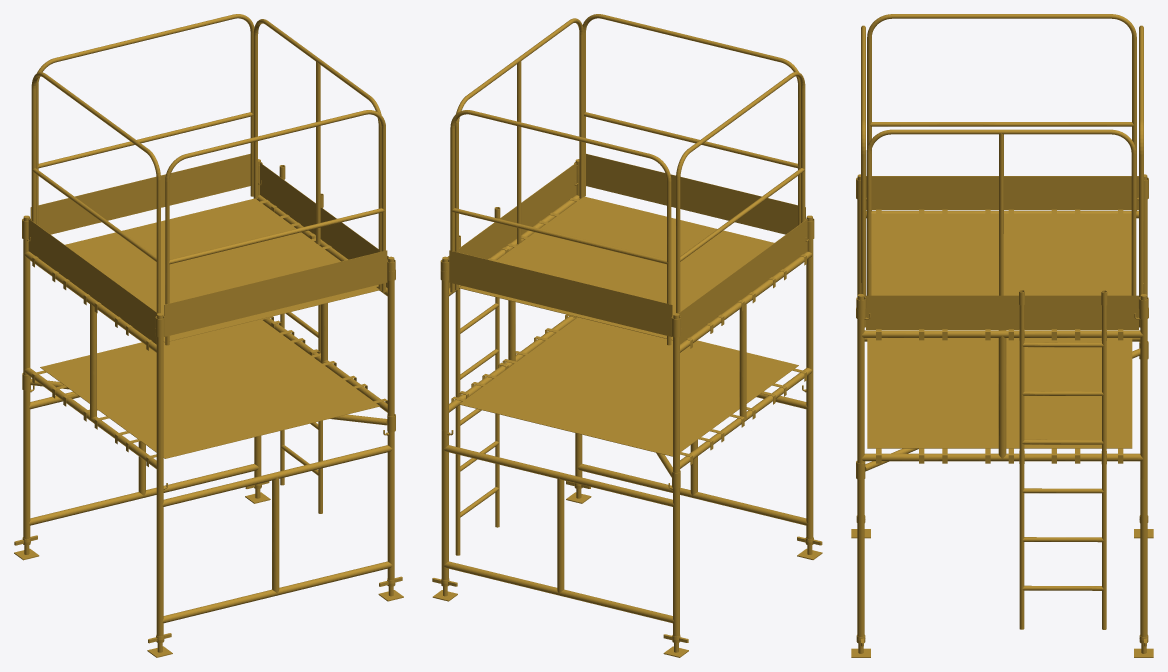
File: ANDAIME.glb
The picture shows the model from 3 angles, left to right: view 1: azimuth 30°, elevation 25°; view 2: azimuth 150°, elevation 25°; view 3: azimuth 270°, elevation 25°; orthographic projection. The views are drawn at different scales.
Parts seen in each view (by area): view 1: ANDAIME; view 2: ANDAIME; view 3: ANDAIME.
Boxes of the visible parts, x1,y1,x2,y2 form: ANDAIME: [14, 14, 403, 657]; ANDAIME: [432, 14, 822, 657]; ANDAIME: [851, 14, 1153, 657].
Bounding box in the file's own units: 174 × 321 × 169.
